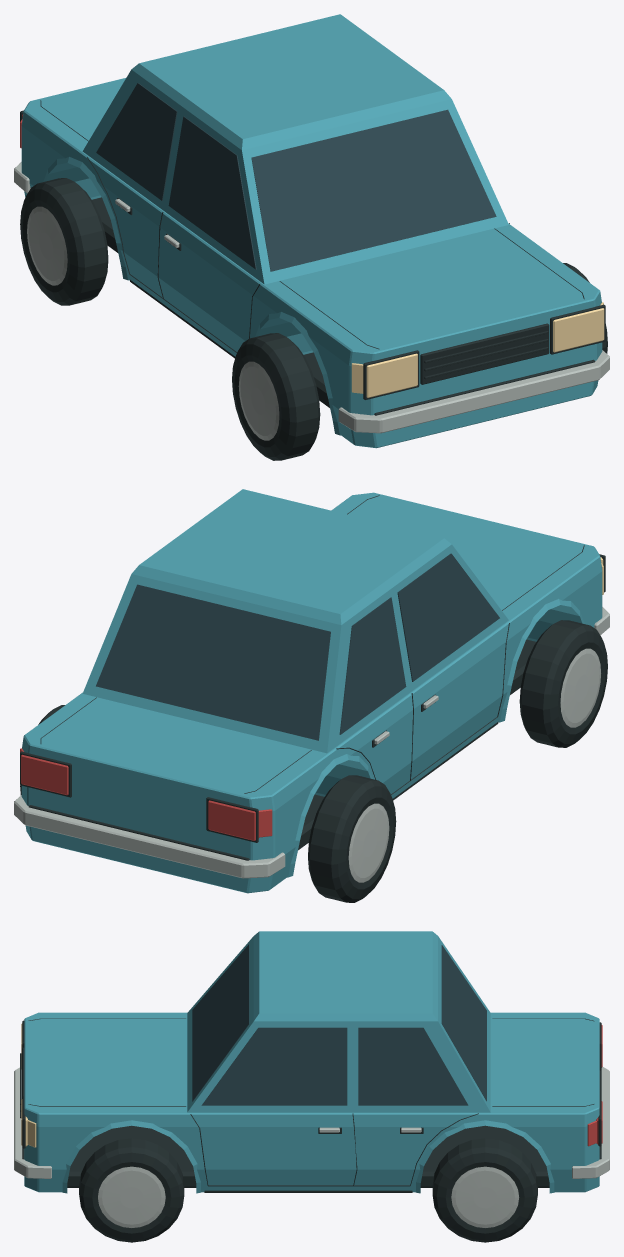
Rendered from asset.glb.
3 renders of one model, top to bottom at view 1: azimuth 30°, elevation 25°; view 2: azimuth 150°, elevation 25°; view 3: azimuth 270°, elevation 25°, orthographic. The views are drawn at different scales.
Parts seen in each view (by area): view 1: Body_ThreeBox_LowerShell, Cabin_Painted_Pillars_Roof, Glass_Windshield, wheel_rl, wheel_fl, Glass_Front_L, Glass_Rear_L, Bumper_Front, Grille_Dark, Headlight_L, Headlight_R, Underbody_Recessed (+3 smaller); view 2: Body_ThreeBox_LowerShell, Cabin_Painted_Pillars_Roof, Glass_RearWindow, wheel_fl, wheel_rl, Glass_Front_L, Glass_Rear_L, Bumper_Rear, Taillight_L, Taillight_R, Underbody_Recessed, Arch_Fold_Rear_L (+2 smaller); view 3: Body_ThreeBox_LowerShell, Cabin_Painted_Pillars_Roof, Glass_Front_R, wheel_fr, wheel_rr, Glass_Rear_R, Glass_Windshield, Underbody_Recessed, Glass_RearWindow, Bumper_Rear, Bumper_Front, Arch_Fold_Rear_R (+2 smaller).
Part boxes in pixels (x1,y1,x2,y2): Body_ThreeBox_LowerShell: (21, 78, 602, 448); Cabin_Painted_Pillars_Roof: (82, 14, 508, 284); Glass_Windshield: (251, 109, 496, 271); wheel_rl: (20, 178, 108, 305); wheel_fl: (232, 333, 320, 460); Glass_Front_L: (168, 116, 256, 269); Glass_Rear_L: (96, 83, 177, 200); Bumper_Front: (338, 350, 609, 433); Grille_Dark: (420, 323, 549, 384); Headlight_L: (366, 353, 417, 397); Headlight_R: (553, 308, 604, 352); Underbody_Recessed: (92, 197, 329, 407); Body_ThreeBox_LowerShell: (21, 492, 602, 893); Cabin_Painted_Pillars_Roof: (82, 489, 508, 753); Glass_RearWindow: (96, 584, 330, 740); wheel_fl: (519, 620, 607, 747); wheel_rl: (308, 775, 396, 902); Glass_Front_L: (397, 553, 499, 681); Glass_Rear_L: (339, 597, 406, 734); Bumper_Rear: (14, 795, 285, 878); Taillight_L: (208, 800, 258, 840); Taillight_R: (21, 754, 68, 795); Underbody_Recessed: (298, 639, 535, 850); Arch_Fold_Rear_L: (287, 754, 372, 877); Body_ThreeBox_LowerShell: (24, 1012, 599, 1192); Cabin_Painted_Pillars_Roof: (187, 931, 490, 1112); Glass_Front_R: (201, 1027, 347, 1105); wheel_fr: (79, 1138, 184, 1242); wheel_rr: (432, 1138, 537, 1242); Glass_Rear_R: (358, 1027, 468, 1105); Glass_Windshield: (192, 944, 249, 1101); Underbody_Recessed: (67, 1125, 549, 1187); Glass_RearWindow: (441, 945, 486, 1101); Bumper_Rear: (572, 1067, 609, 1178); Bumper_Front: (14, 1067, 51, 1178); Arch_Fold_Rear_R: (415, 1120, 554, 1193).
Size of the model in its own units: 2.25 by 1.65 by 4.3.
